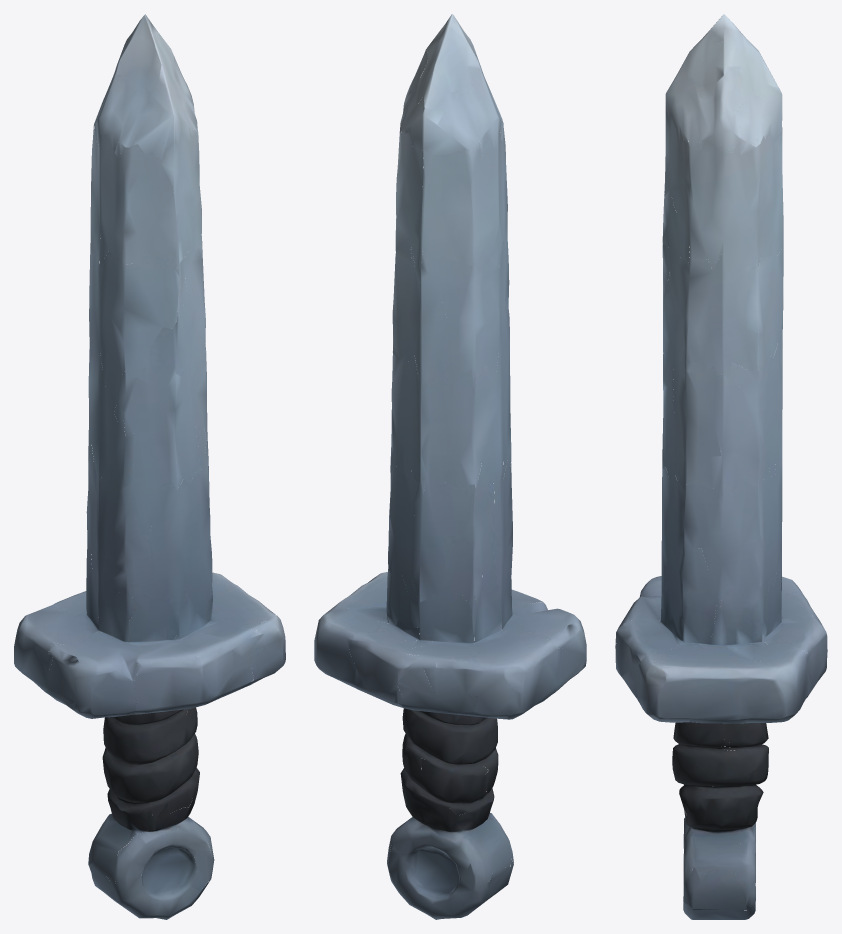
Rendered from Arm_greatsword-CtW-1v3S.glb.
The picture shows the model from 3 angles, left to right: view 1: azimuth 30°, elevation 25°; view 2: azimuth 150°, elevation 25°; view 3: azimuth 270°, elevation 25°; orthographic projection.
Visible parts, largest first — view 1: Arm_greatsword; view 2: Arm_greatsword; view 3: Arm_greatsword.
Boxes of the visible parts, x1,y1,x2,y2 form: Arm_greatsword: (14,14,285,919); Arm_greatsword: (314,14,586,919); Arm_greatsword: (615,14,827,919).
Size of the model in its own units: 0.5242 by 2.15 by 0.4599.
Materials: 1 (1 with a texture image).
